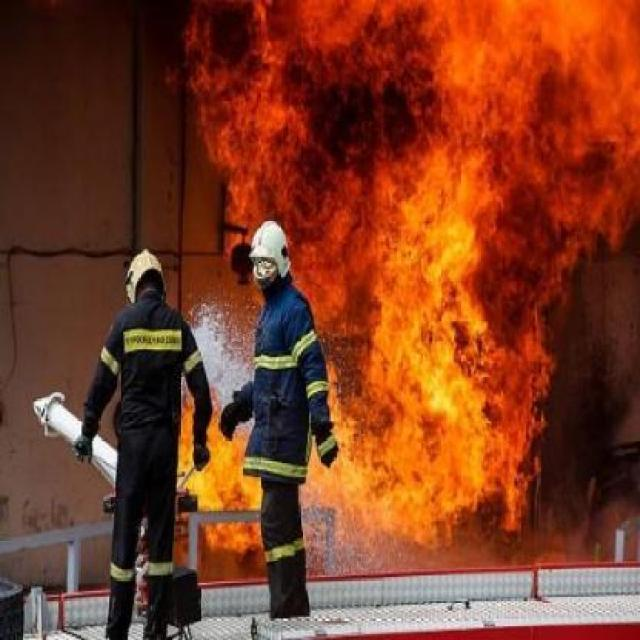Fire: (176, 42, 638, 596)
